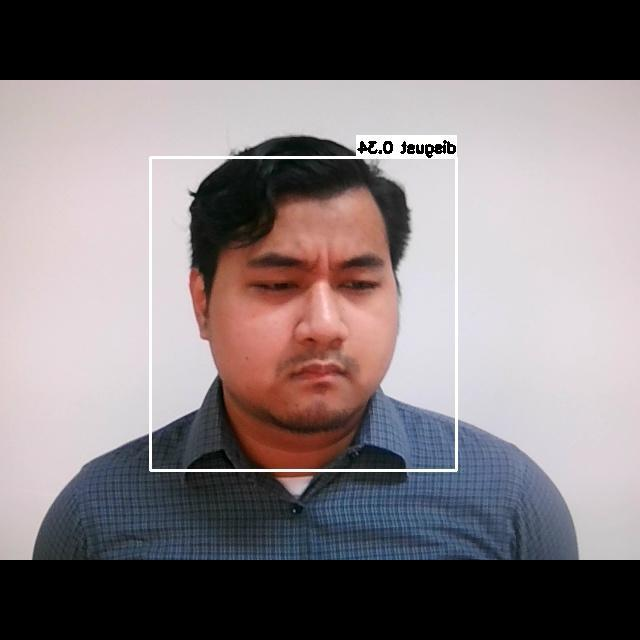Angry: (196, 220, 410, 396)
